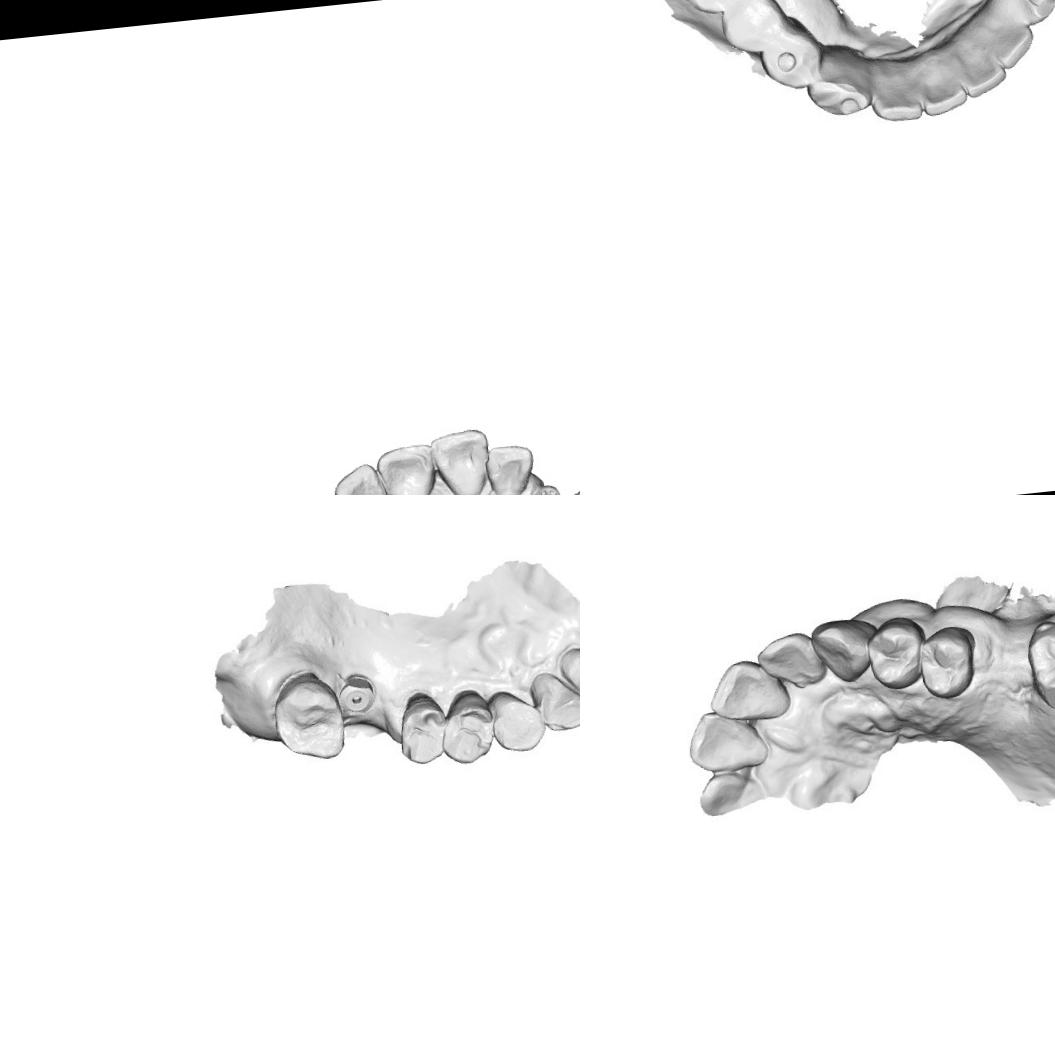canine: (804, 58, 874, 122), (810, 614, 872, 680), (484, 688, 544, 756), (1000, 0, 1055, 20)
implant: (335, 672, 374, 718)
implant_plus: (523, 479, 567, 495)
incisor: (684, 708, 771, 776), (708, 660, 787, 725), (428, 424, 498, 495), (865, 58, 927, 130), (756, 632, 822, 693), (374, 440, 441, 495), (481, 440, 539, 495), (531, 668, 580, 732), (978, 11, 1032, 68), (956, 41, 1007, 99), (914, 60, 968, 114), (329, 459, 394, 495), (565, 645, 580, 715)
molar: (268, 674, 348, 768), (1018, 614, 1055, 716), (663, 0, 752, 19)
premolar: (864, 612, 930, 693), (916, 618, 978, 704), (390, 696, 450, 768), (437, 697, 495, 768), (762, 25, 820, 91), (720, 0, 785, 53)
